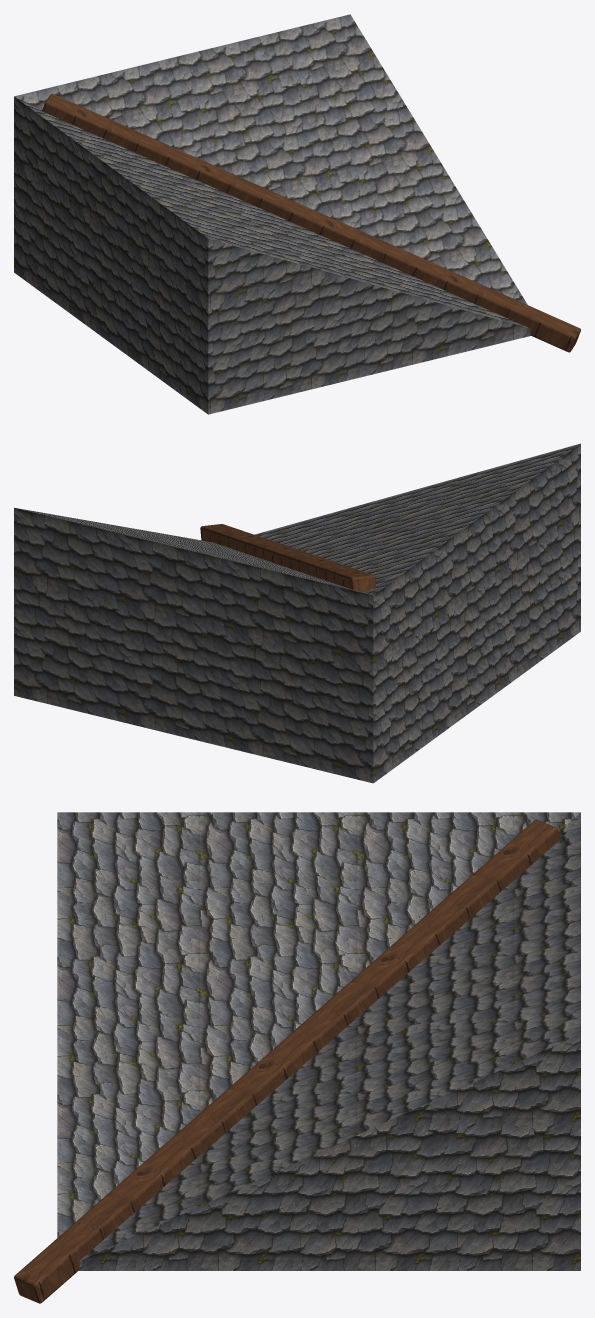
File: roof_26_inner__cut_stone.glb
3 views of the same model, one above another, from view 1: azimuth 30°, elevation 25°; view 2: azimuth 150°, elevation 25°; view 3: azimuth 270°, elevation 25° (orthographic). The views are drawn at different scales.
Parts seen in each view (by area): view 1: model; view 2: model; view 3: model.
Boxes of the visible parts, x1,y1,x2,y2 form: model: (14, 14, 580, 414); model: (14, 443, 580, 783); model: (14, 812, 580, 1303).
Bounding box in the file's own units: 2.17 × 1.09 × 2.17.
Materials: 2 (2 with a texture image).
